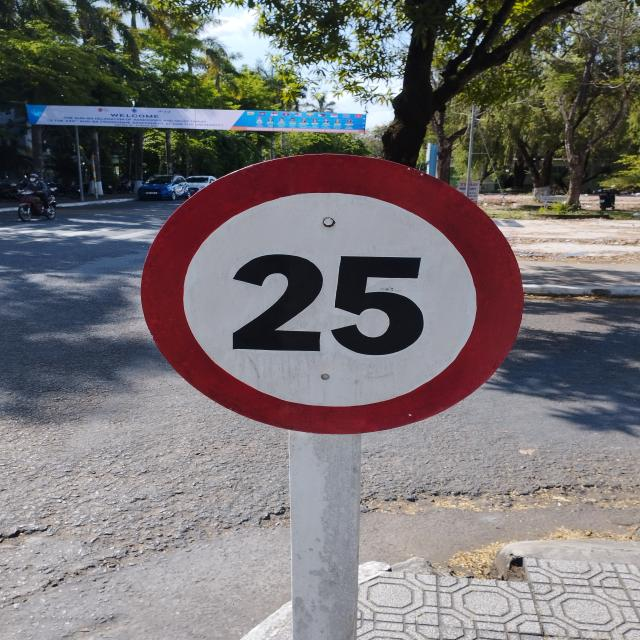Tre_Em: (138, 154, 529, 440)
